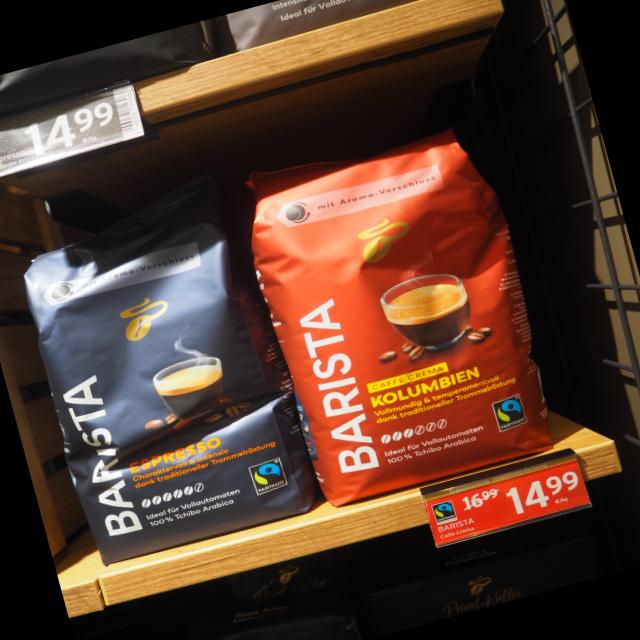Barista Espresso: (13, 163, 320, 571)
Barista Kolumbien: (231, 110, 570, 516)
